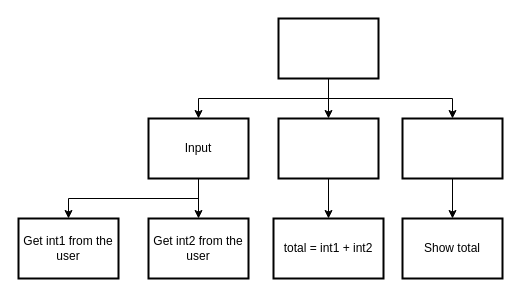
Image size: 520x296. Some labels were removed from this diagram. The centre of each missing label's shape, as x and y in pixels:
"Integer Addition" goes at (328,48).
"Output" goes at (452,148).
"Process" goes at (328,148).
